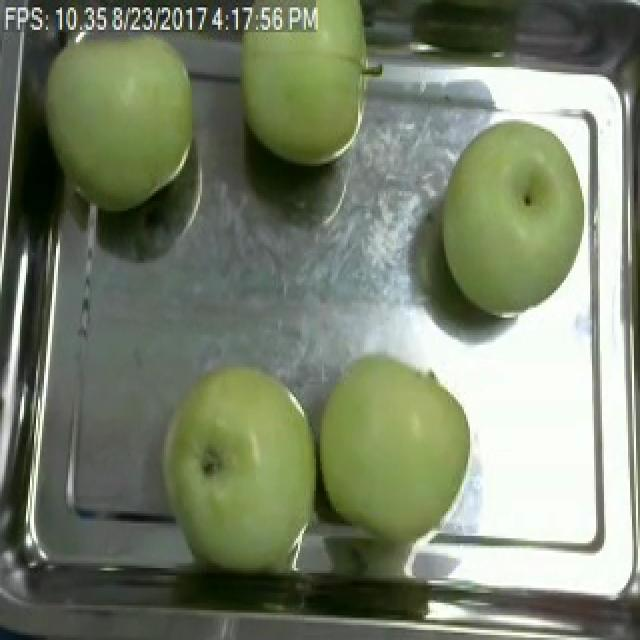50-_ripeness: (146, 366, 333, 569), (315, 358, 497, 540), (228, 0, 400, 191), (448, 119, 586, 333), (49, 28, 204, 216)
